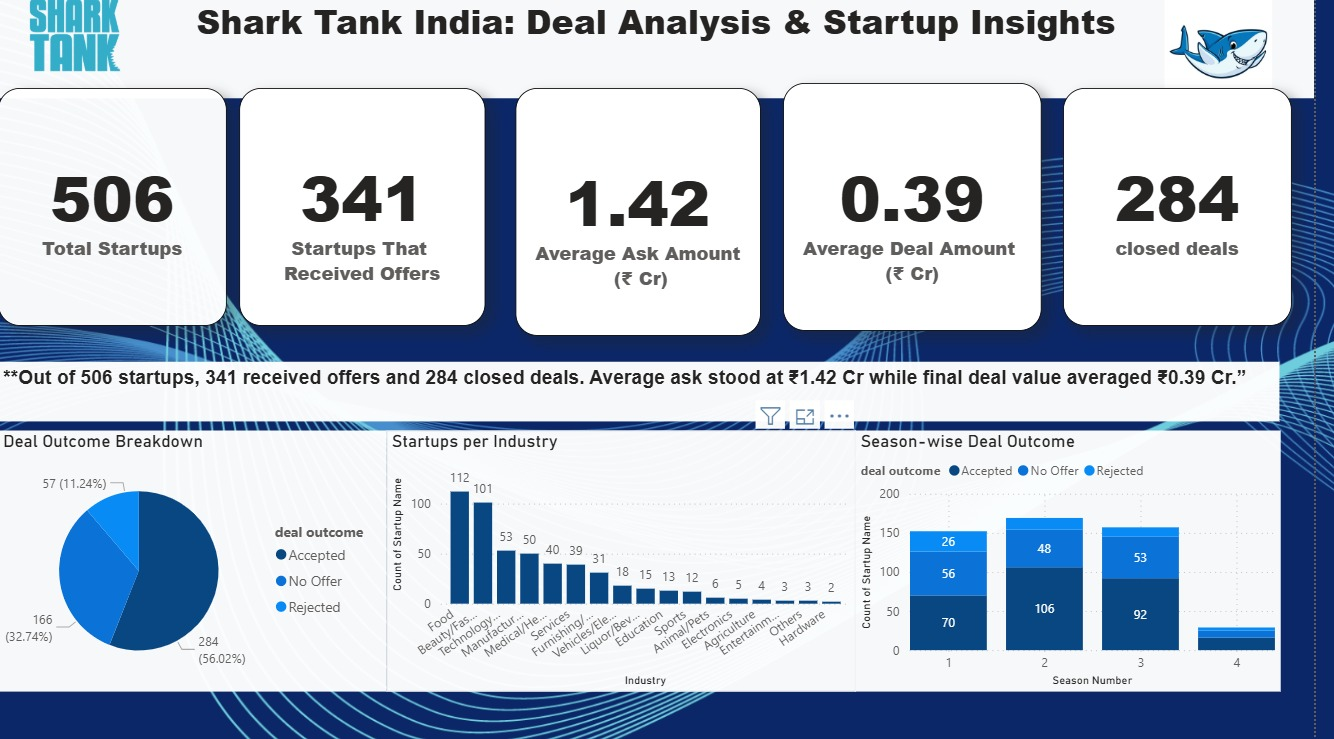

What the dashboard file says about the page in this screenshot:
{"tool":"powerbi","page":{"name":"Page 1","canvas":[1280,720],"ordinal":0},"visuals":[{"type":"textbox","box":[9.7,0,1270.4,101.3],"z":0},{"type":"image","box":[0,0,167.7,80.8],"z":1000},{"type":"image","box":[1095.4,0,184.6,113.4],"z":2000},{"type":"card","fields":{"Values":["Shark Tank India.total_startups"]},"box":[9.7,91.7,220.8,229.2],"z":3000},{"type":"card","fields":{"Values":["Shark Tank India.Startups_That_ Received_Offers"]},"box":[242.5,91.7,237.7,229.2],"z":4000},{"type":"card","fields":{"Values":["Avg(Shark Tank India.original ask amount in Cr.)"]},"box":[509.1,91.7,236.5,238.9],"z":5000},{"type":"card","fields":{"Values":["Avg(Shark Tank India.Total deal amount in Cr.)"]},"box":[767.3,86.9,249.7,238.9],"z":6000},{"type":"card","fields":{"Values":["Shark Tank India.closed deals"]},"box":[1037.5,91.7,220.8,229.2],"z":7000},{"type":"textbox","box":[9.7,355.9,1236.6,57.9],"z":8000},{"type":"pieChart","title":"Deal Outcome Breakdown","fields":{"Category":["Shark Tank India.deal outcome"],"Y":["CountNonNull(Shark Tank India.deal outcome)"]},"box":[9.7,422.3,375.2,252.1],"z":9000},{"type":"columnChart","title":"Startups per Industry","fields":{"Category":["Shark Tank India.Industry"],"Y":["CountNonNull(Shark Tank India.Startup Name)"]},"box":[384.9,422.3,452.4,252.1],"z":10000},{"type":"columnChart","title":"Season-wise Deal Outcome","fields":{"Category":["Shark Tank India.Season Number"],"Y":["CountNonNull(Shark Tank India.Startup Name)"],"Series":["Shark Tank India.deal outcome"]},"box":[837,422,410,252],"z":11000}]}

Visuals, with their boxes in screenshot pixels (x1, y1, x2, y2), scaled from the page's 1280x720 canvas onto the 1334x739 screenshot:
textbox: x1=10 y1=0 x2=1333 y2=104
image: x1=0 y1=0 x2=175 y2=83
image: x1=1142 y1=0 x2=1333 y2=116
card - Shark Tank India.total_startups: x1=10 y1=94 x2=240 y2=329
card - Shark Tank India.Startups_That_ Received_Offers: x1=253 y1=94 x2=500 y2=329
card - Avg(Shark Tank India.original ask amount in Cr.): x1=531 y1=94 x2=777 y2=339
card - Avg(Shark Tank India.Total deal amount in Cr.): x1=800 y1=89 x2=1060 y2=334
card - Shark Tank India.closed deals: x1=1081 y1=94 x2=1311 y2=329
textbox: x1=10 y1=365 x2=1299 y2=425
"Deal Outcome Breakdown" pieChart: x1=10 y1=433 x2=401 y2=692
"Startups per Industry" columnChart: x1=401 y1=433 x2=873 y2=692
"Season-wise Deal Outcome" columnChart: x1=872 y1=433 x2=1300 y2=692
